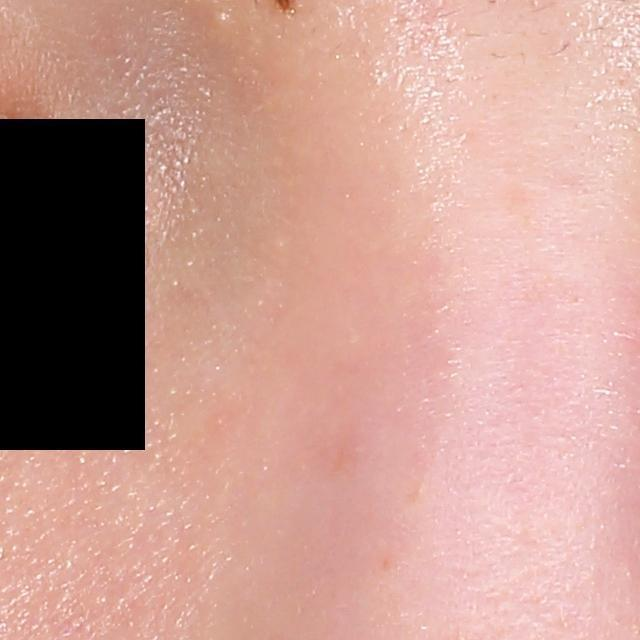comedo: (217, 10, 231, 29)
